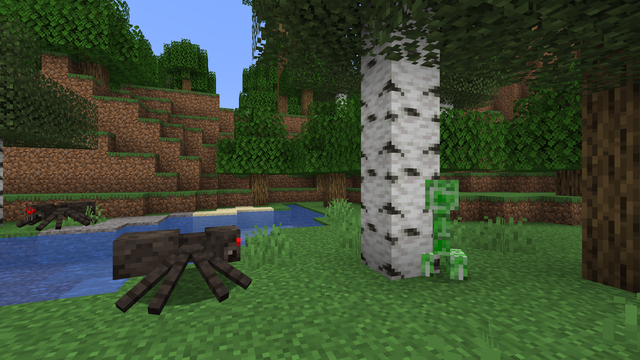araignees: (122, 217, 240, 311), (15, 198, 92, 231)
creepers: (426, 174, 467, 280)
